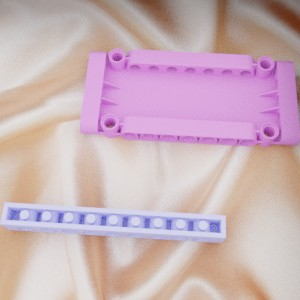lego: (79, 48, 299, 146), (0, 202, 225, 243)
